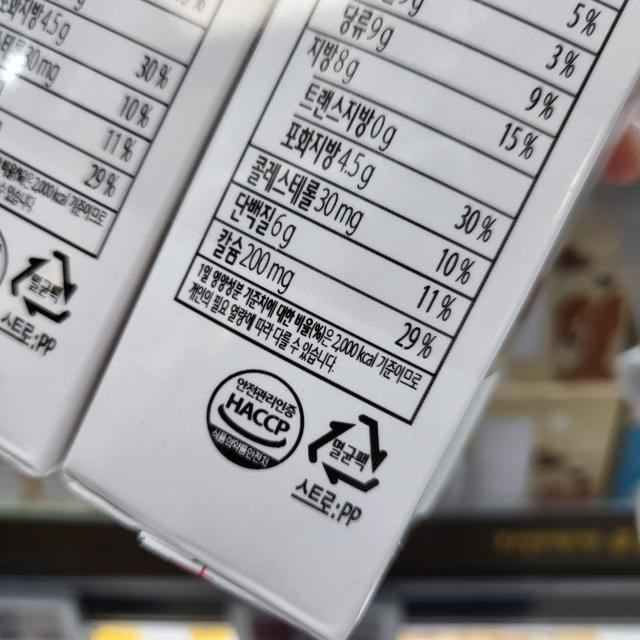SterilizedPack: (306, 410, 387, 495)
